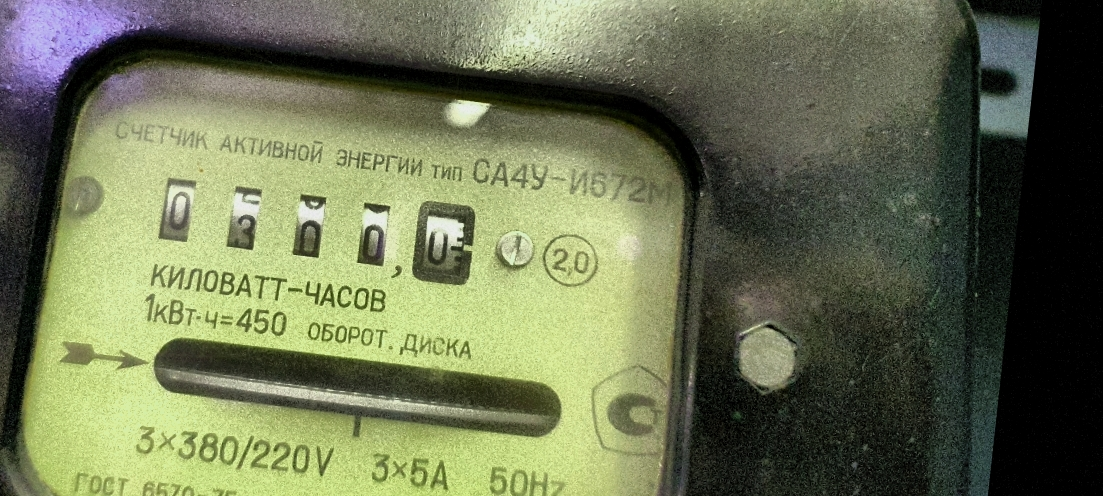0: (358, 219, 388, 266), (165, 185, 193, 234), (423, 223, 452, 268), (295, 215, 323, 259)
3: (231, 210, 258, 251)
screen: (135, 152, 499, 304)
